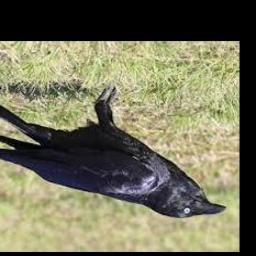Crow: (0, 84, 225, 219)
